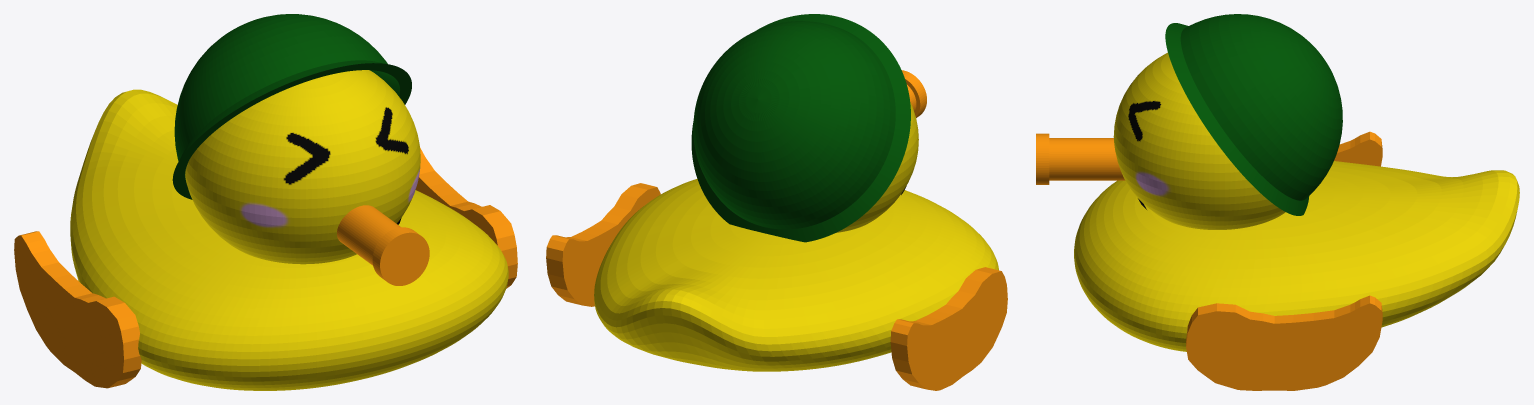
The model's file is Duck.fbx.
3 views of the same model, side by side, from view 1: azimuth 30°, elevation 25°; view 2: azimuth 150°, elevation 25°; view 3: azimuth 270°, elevation 25° (orthographic). The views are drawn at different scales.
Visible parts, largest first — view 1: Sphere, Sphere.001, Sphere.002, Cube, Cylinder, Cube.001; view 2: Sphere, Sphere.002, Cube, Cube.001, Sphere.001, Cylinder; view 3: Sphere, Sphere.002, Sphere.001, Cube.001, Cylinder, Cube.
Part boxes in pixels (<box>): Sphere: <box>70,89,508,390</box>; Sphere.001: <box>185,70,420,264</box>; Sphere.002: <box>172,14,411,199</box>; Cube: <box>14,231,141,388</box>; Cylinder: <box>337,205,429,285</box>; Cube.001: <box>415,147,517,288</box>; Sphere: <box>594,179,998,371</box>; Sphere.002: <box>691,14,910,242</box>; Cube: <box>890,267,1007,390</box>; Cube.001: <box>546,183,660,306</box>; Sphere.001: <box>836,102,918,232</box>; Cylinder: <box>901,70,926,117</box>; Sphere: <box>1074,161,1519,351</box>; Sphere.002: <box>1165,14,1342,215</box>; Sphere.001: <box>1113,52,1285,229</box>; Cube.001: <box>1186,295,1382,390</box>; Cylinder: <box>1036,133,1125,184</box>; Cube: <box>1334,131,1382,166</box>.
Size of the model in its own units: 304 by 238 by 362.
Materials: 8 (1 with a texture image).
